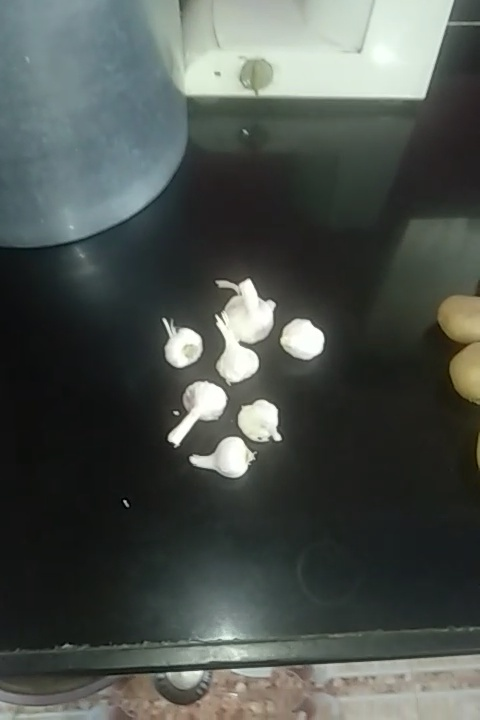garlic: (220, 277, 274, 342), (165, 381, 222, 440), (158, 313, 208, 372), (195, 434, 253, 477), (215, 335, 260, 385), (239, 403, 289, 447), (279, 318, 323, 364)
potato: (443, 345, 480, 398), (439, 297, 480, 344)
